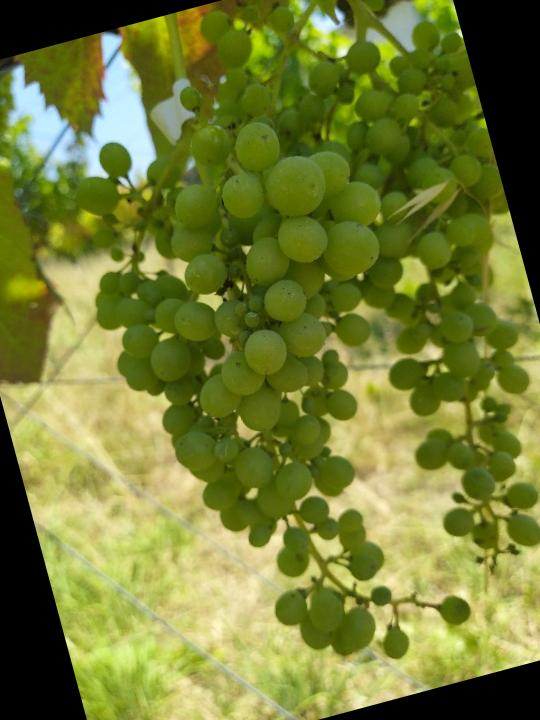grape: (37, 42, 501, 717)
